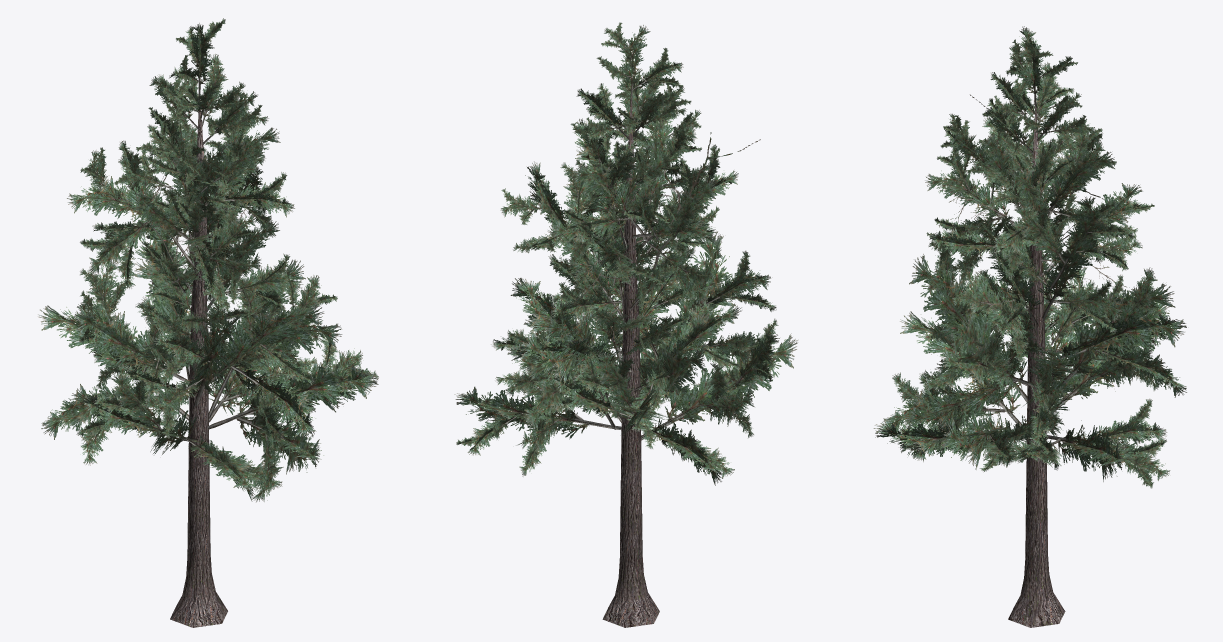
Rendered from YoungScotsPine.fbx.
3 renders of one model, left to right at view 1: azimuth 30°, elevation 25°; view 2: azimuth 150°, elevation 25°; view 3: azimuth 270°, elevation 25°, orthographic.
Visible parts, largest first — view 1: YoungScotsPine; view 2: YoungScotsPine; view 3: YoungScotsPine.
Boxes of the visible parts, bbox=[...] form: YoungScotsPine: bbox=[38, 18, 378, 627]; YoungScotsPine: bbox=[454, 22, 797, 627]; YoungScotsPine: bbox=[873, 26, 1186, 627].
Bounding box in the file's own units: 5.86 × 11.18 × 6.08.
Materials: 2 (2 with a texture image).
